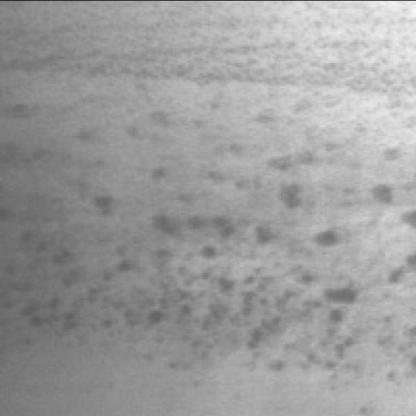pitted_surface: (2, 121, 412, 366), (0, 12, 412, 102)
